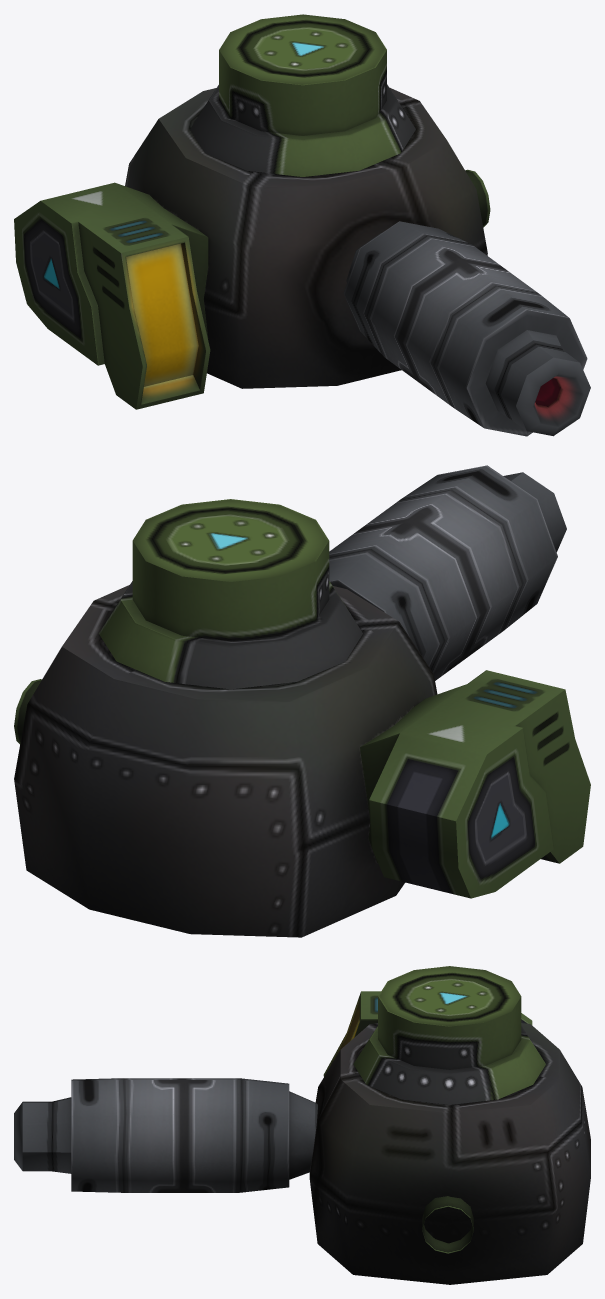
File: first.fbx
3 views of the same model, one above another, from view 1: azimuth 30°, elevation 25°; view 2: azimuth 150°, elevation 25°; view 3: azimuth 270°, elevation 25° (orthographic). The views are drawn at different scales.
Parts seen in each view (by area): view 1: SciFi Ultra Tank 1_turret, SciFi Ultra Tank 4.5_turret; view 2: SciFi Ultra Tank 1_turret, SciFi Ultra Tank 4.5_turret; view 3: SciFi Ultra Tank 1_turret, SciFi Ultra Tank 4.5_turret.
Part boxes in pixels (x1,y1,x2,y2): SciFi Ultra Tank 1_turret: (14,14,490,409); SciFi Ultra Tank 4.5_turret: (343,221,590,436); SciFi Ultra Tank 1_turret: (14,499,590,937); SciFi Ultra Tank 4.5_turret: (329,465,566,680); SciFi Ultra Tank 1_turret: (309,966,590,1284); SciFi Ultra Tank 4.5_turret: (14,1078,317,1192).
Size of the model in its own units: 191 by 119 by 272.
